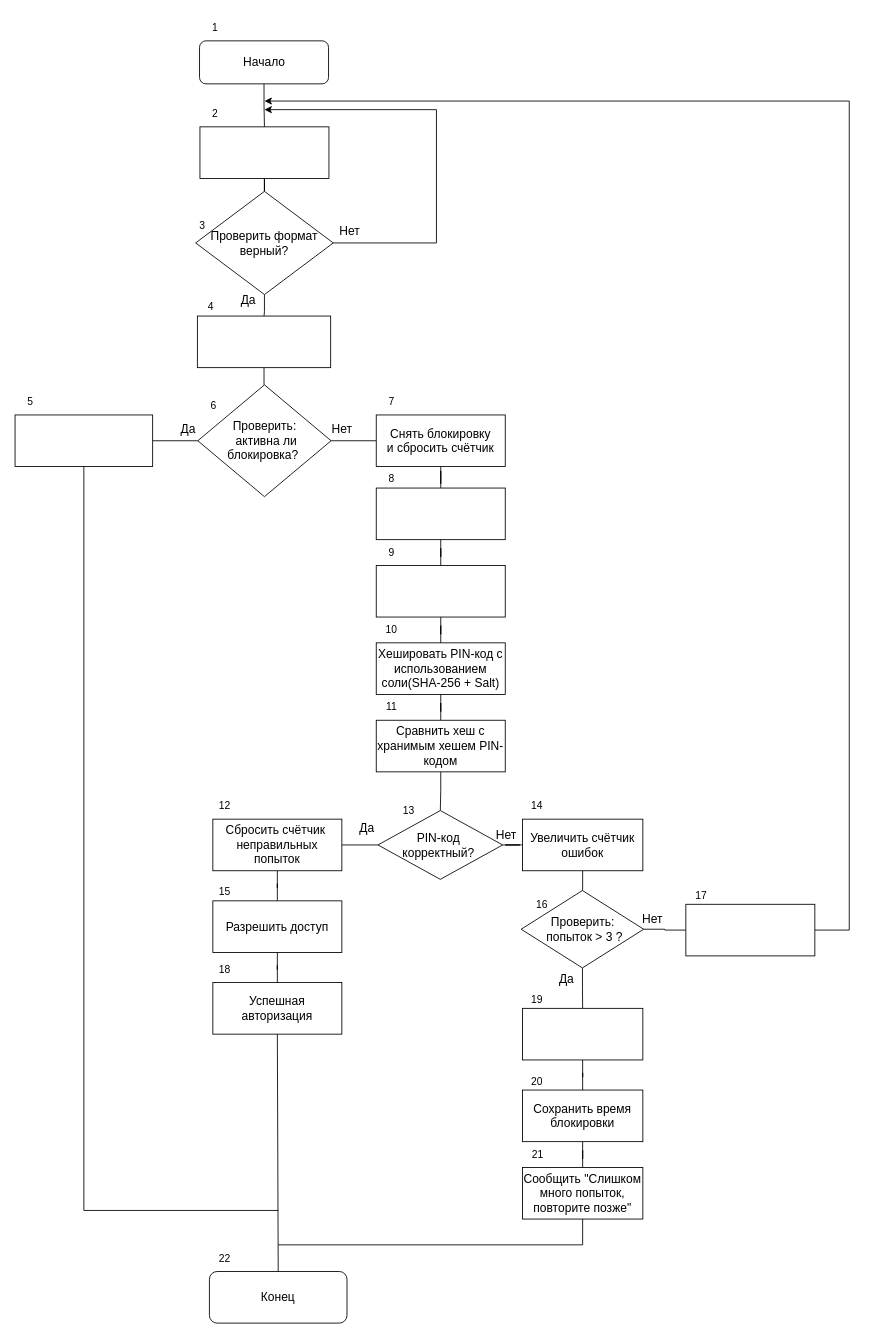
Image size: 871x1338. Some labels were removed from this diagram. The centre of each missing label's shape, as x and y in pixels:
Отклонить вход и вывести сообщение "Неверный PIN-код": [750,929]
Отклонить вход и вывести сообщение "Попробуйте позже": [83,440]
Получить текущее время: [264,341]
Получить хранимый хеш PIN и соль из БД: [440,513]
Пользователь вводит PIN-код: [264,152]
Сгенерировать хеш (SHA-256 + salt): [440,591]
Установить блокировку (5 минут): [582,1033]
